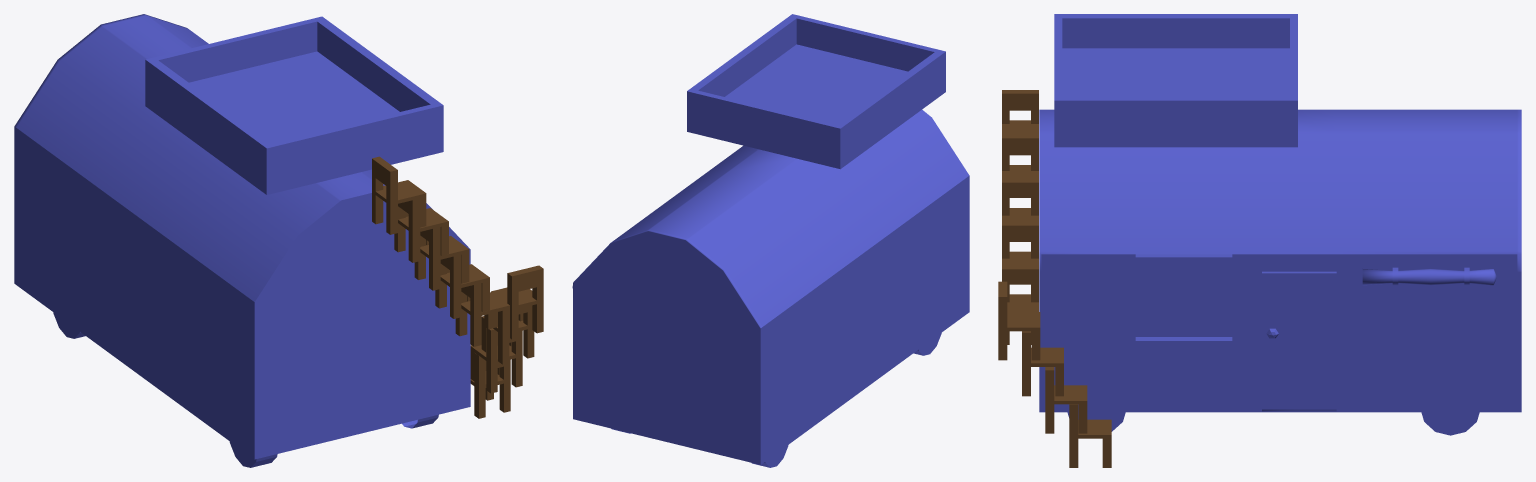
The model's file is bauwagen.fbx.
The picture shows the model from 3 angles, left to right: view 1: azimuth 30°, elevation 25°; view 2: azimuth 150°, elevation 25°; view 3: azimuth 270°, elevation 25°; orthographic projection. The views are drawn at different scales.
Visible parts, largest first — view 1: Bauwagen; view 2: Bauwagen; view 3: Bauwagen.
Boxes of the visible parts, box(x1,y1,x2,y2) form: Bauwagen: box(14, 14, 543, 467); Bauwagen: box(572, 14, 969, 467); Bauwagen: box(998, 14, 1521, 467).
Size of the model in its own units: 511 by 599 by 851.
